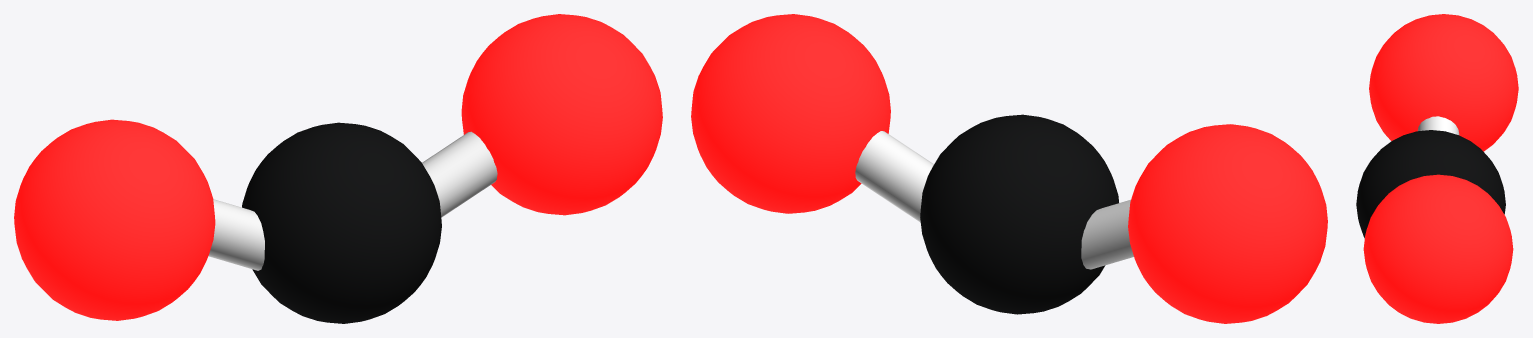
Rendered from AtomsPaths.fbx.
3 views of the same model, side by side, from view 1: azimuth 30°, elevation 25°; view 2: azimuth 150°, elevation 25°; view 3: azimuth 270°, elevation 25° (orthographic). The views are drawn at different scales.
Parts seen in each view (by area): view 1: Oxygen_Atom_1, Oxygen_Atom_2, Carbon_Atom, Bond__2_, Bond__1_; view 2: Oxygen_Atom_1, Oxygen_Atom_2, Carbon_Atom, Bond__2_, Bond__1_; view 3: Oxygen_Atom_2, Oxygen_Atom_1, Carbon_Atom, Bond__1_.
Part boxes in pixels (box(x1,y1,x2,y2)): Oxygen_Atom_1: box(14, 119, 215, 320); Oxygen_Atom_2: box(461, 14, 662, 215); Carbon_Atom: box(242, 122, 441, 323); Bond__2_: box(422, 131, 497, 217); Bond__1_: box(208, 199, 264, 270); Oxygen_Atom_1: box(1128, 124, 1327, 323); Oxygen_Atom_2: box(691, 14, 890, 213); Carbon_Atom: box(920, 114, 1118, 314); Bond__2_: box(855, 131, 933, 222); Bond__1_: box(1081, 199, 1133, 269); Oxygen_Atom_2: box(1363, 174, 1513, 323); Oxygen_Atom_1: box(1369, 14, 1518, 151); Carbon_Atom: box(1356, 130, 1505, 238); Bond__1_: box(1418, 116, 1459, 134).
Size of what is drawn, in the model's own units: 140 by 50.3 by 42.87.
